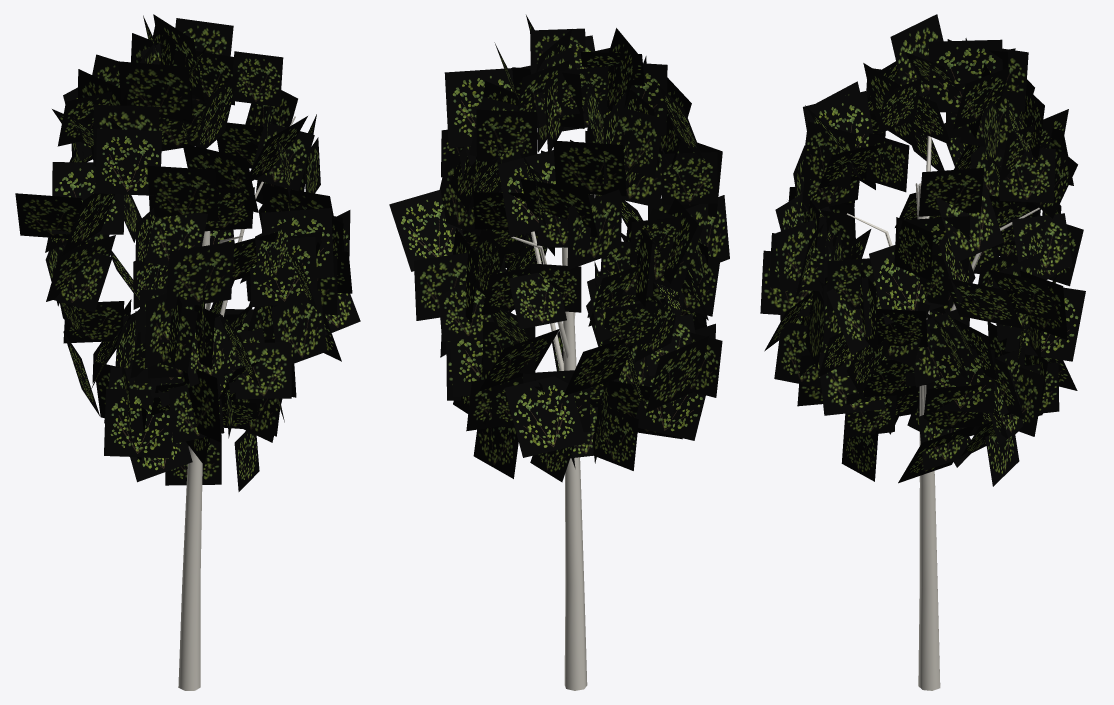
Rendered from tpl_bog_birch_hi.glb.
The picture shows the model from 3 angles, left to right: view 1: azimuth 30°, elevation 25°; view 2: azimuth 150°, elevation 25°; view 3: azimuth 270°, elevation 25°; orthographic projection.
Visible parts, largest first — view 1: tpl_bog_birch_hi; view 2: tpl_bog_birch_hi; view 3: tpl_bog_birch_hi.
Boxes of the visible parts, x1,y1,x2,y2 form: tpl_bog_birch_hi: [15, 14, 360, 690]; tpl_bog_birch_hi: [389, 15, 729, 690]; tpl_bog_birch_hi: [760, 14, 1085, 690].
Bounding box in the file's own units: 5.97 × 12.57 × 5.98.
Materials: 2 (1 with a texture image).
